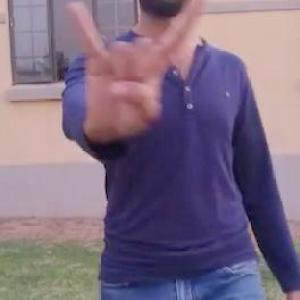takeoff-hand: (64, 0, 211, 150)
